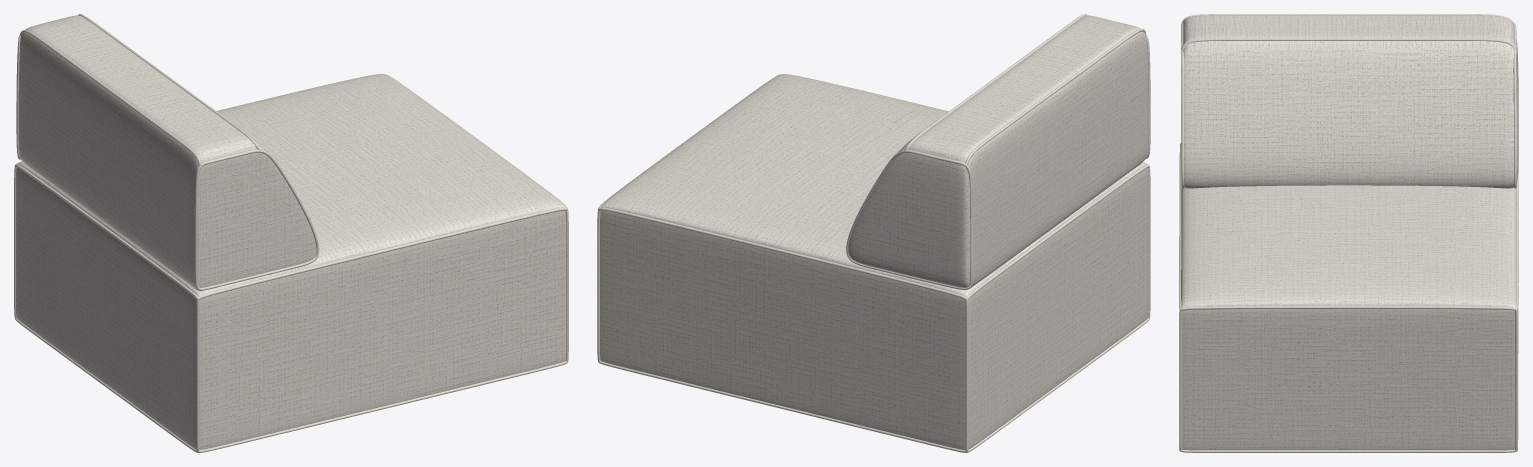
Rendered from armless_1_5_seater_90_alpine_ivory.glb.
The picture shows the model from 3 angles, left to right: view 1: azimuth 30°, elevation 25°; view 2: azimuth 150°, elevation 25°; view 3: azimuth 270°, elevation 25°; orthographic projection. The views are drawn at different scales.
Parts seen in each view (by area): view 1: Box093, Box097, Shape043, Shape039; view 2: Box093, Box097, Shape043, Shape039; view 3: Box093, Box097, Shape043, Shape039.
Part boxes in pixels (box(x1,y1,x2,y2)): Box093: box(16, 74, 566, 449); Box097: box(18, 15, 316, 288); Shape043: box(14, 75, 568, 452); Shape039: box(16, 14, 319, 291); Box093: box(600, 74, 1148, 449); Box097: box(848, 15, 1148, 287); Shape043: box(597, 74, 1150, 452); Shape039: box(846, 14, 1150, 289); Box093: box(1181, 185, 1517, 450); Box097: box(1183, 15, 1518, 188); Shape043: box(1179, 143, 1518, 452); Shape039: box(1181, 14, 1516, 188).
Size of the model in its own units: 1.07 by 0.8369 by 0.9145.
2 materials, 2 textured.
